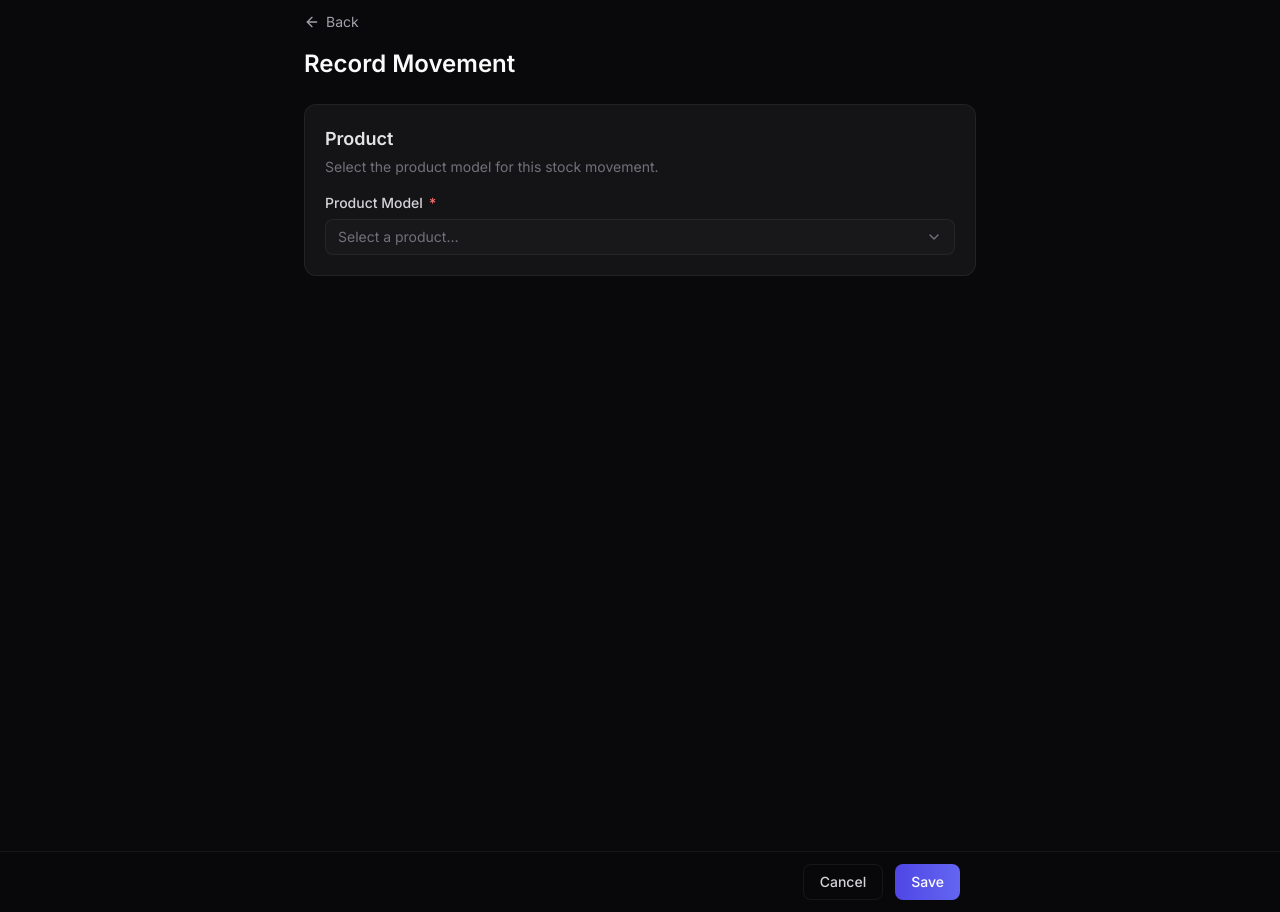
MovementCreate tracker branch (TRACKER-STATUS-04) › renders StatusPicker (no quantity input) for SERIALIZED tracker product
Note: Select the tracker product.
Click the dropdown.
click(398, 236)  # box 325,219 -> 955,255
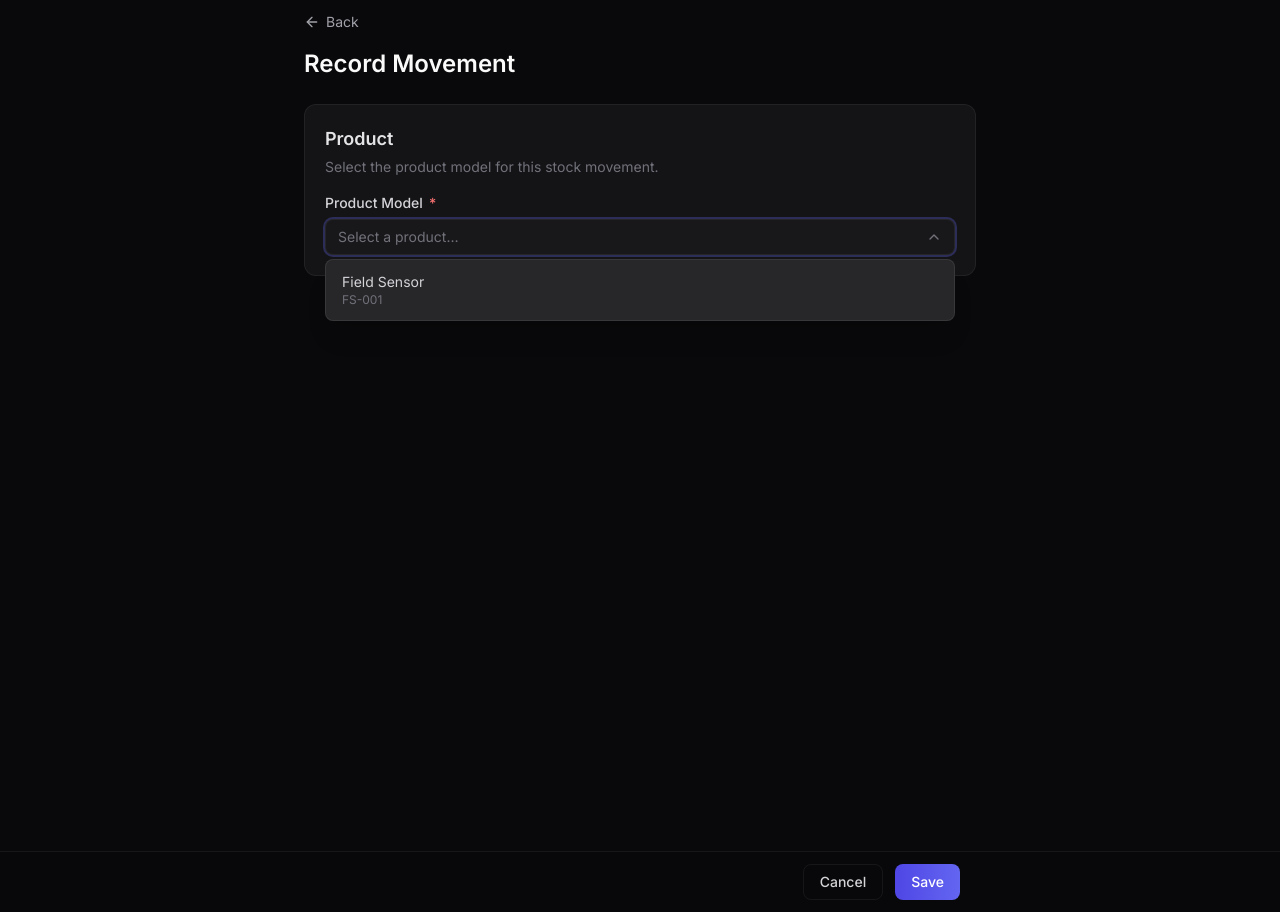
Click the text "Field Sensor".
click(383, 282)  # box 342,272 -> 424,292
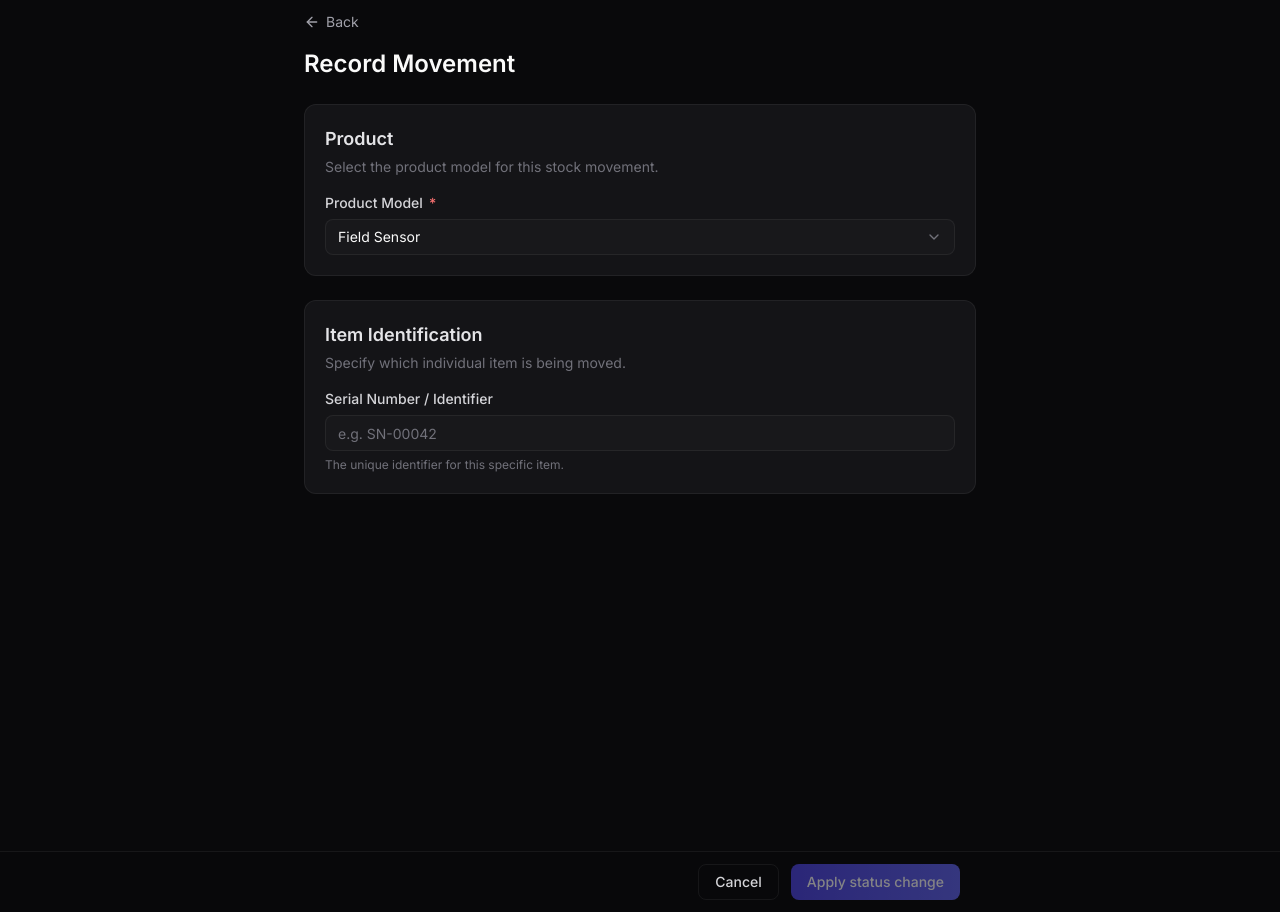
Type "SN-1" into the field.
click(640, 433); type("SN-1")  # box 325,415 -> 955,451
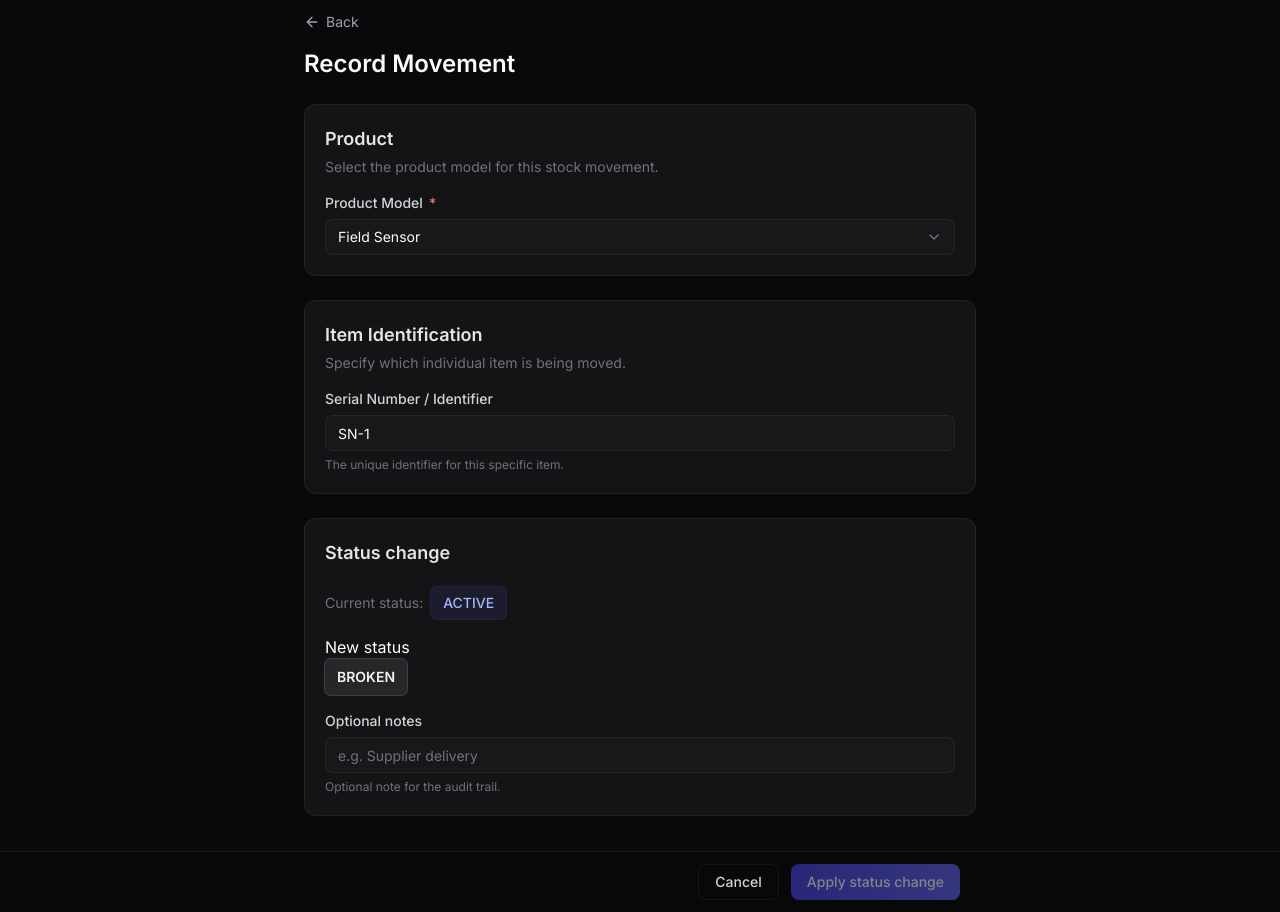
Expected: the button "Apply status change" is shown, 791,864 -> 960,900
Expected: the button "BROKEN" is shown, 325,659 -> 407,695
